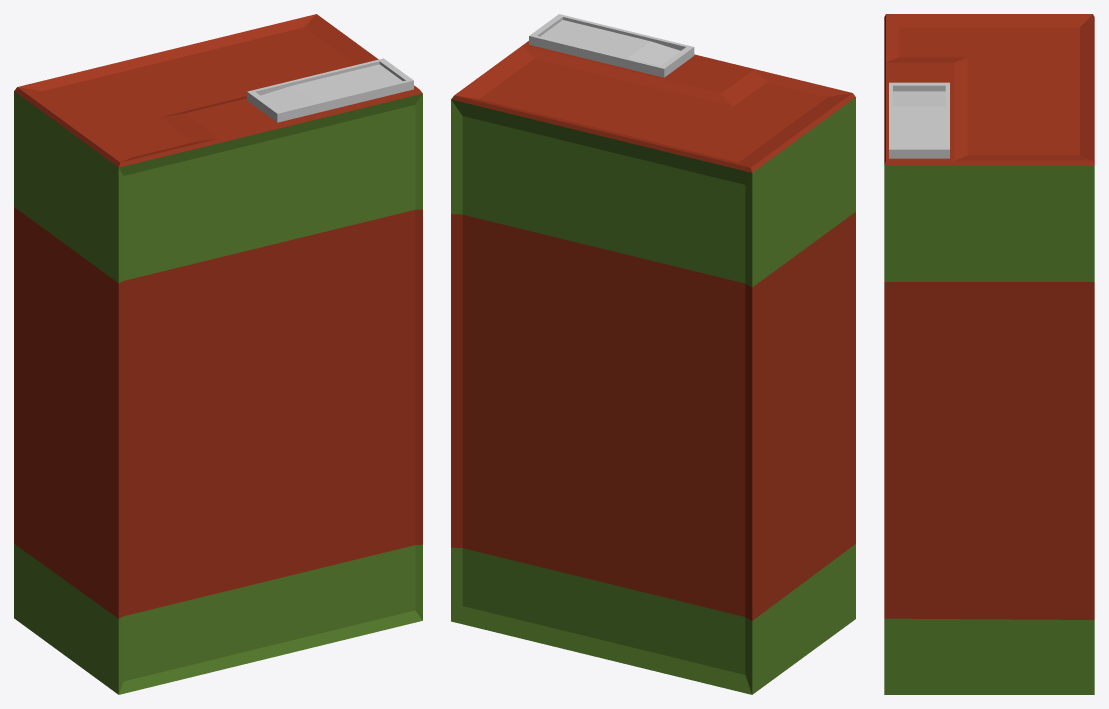
File: Juice Carton Apple.fbx
The picture shows the model from 3 angles, left to right: view 1: azimuth 30°, elevation 25°; view 2: azimuth 150°, elevation 25°; view 3: azimuth 270°, elevation 25°; orthographic projection.
Visible parts, largest first — view 1: Juice Carton Apple; view 2: Juice Carton Apple; view 3: Juice Carton Apple.
Boxes of the visible parts, x1,y1,x2,y2 form: Juice Carton Apple: (14,14,422,694); Juice Carton Apple: (451,14,855,694); Juice Carton Apple: (884,14,1094,694).
Bounding box in the file's own units: 22.17 × 37.63 × 13.22.
1 material, 1 textured.
